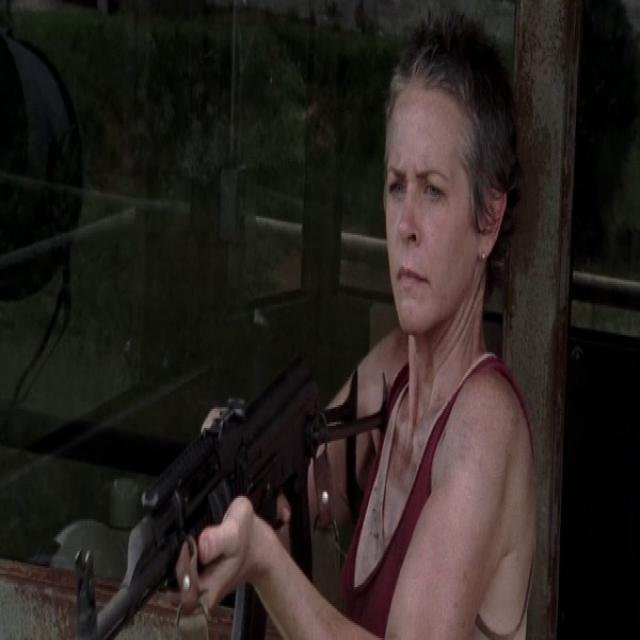rifle: (61, 304, 370, 640)
